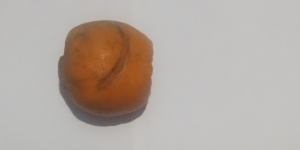BAD: (61, 18, 155, 119)
